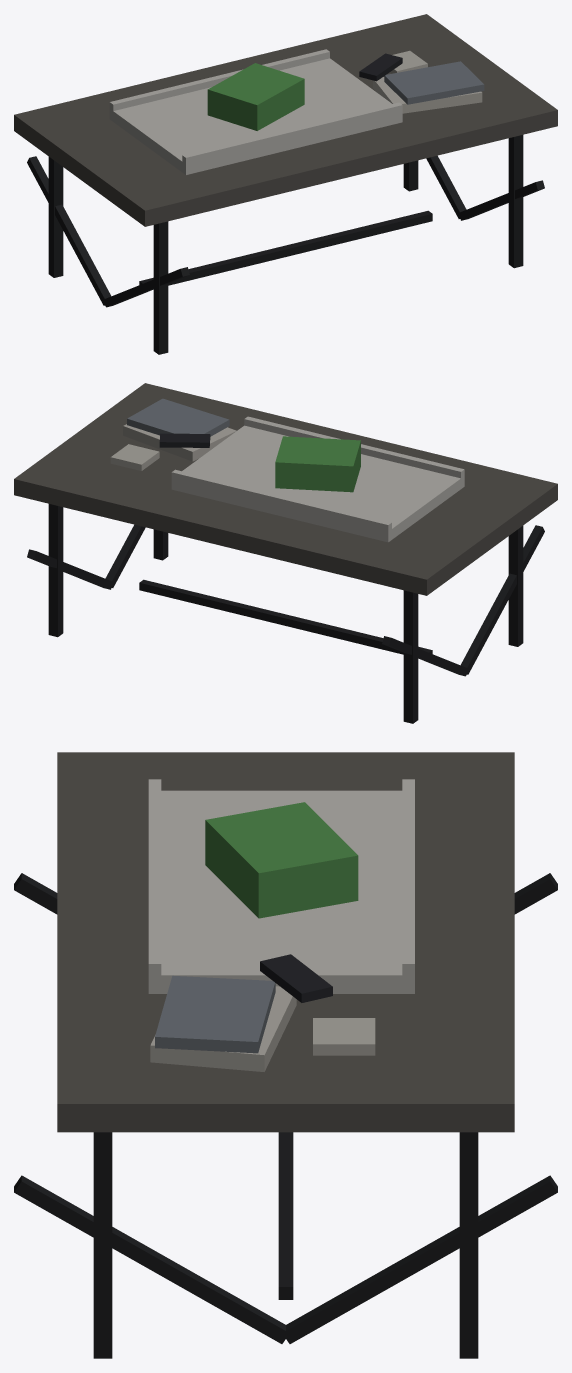
The picture shows the model from 3 angles, top to bottom: view 1: azimuth 30°, elevation 25°; view 2: azimuth 150°, elevation 25°; view 3: azimuth 270°, elevation 25°; orthographic projection. The views are drawn at different scales.
Visible parts, largest first — view 1: root; view 2: root; view 3: root.
Boxes of the visible parts, box(x1,y1,x2,y2) form: root: box(14, 14, 557, 354); root: box(14, 383, 557, 723); root: box(14, 752, 557, 1358).
Bounding box in the file's own units: 1.22 × 0.5486 × 0.7971.
